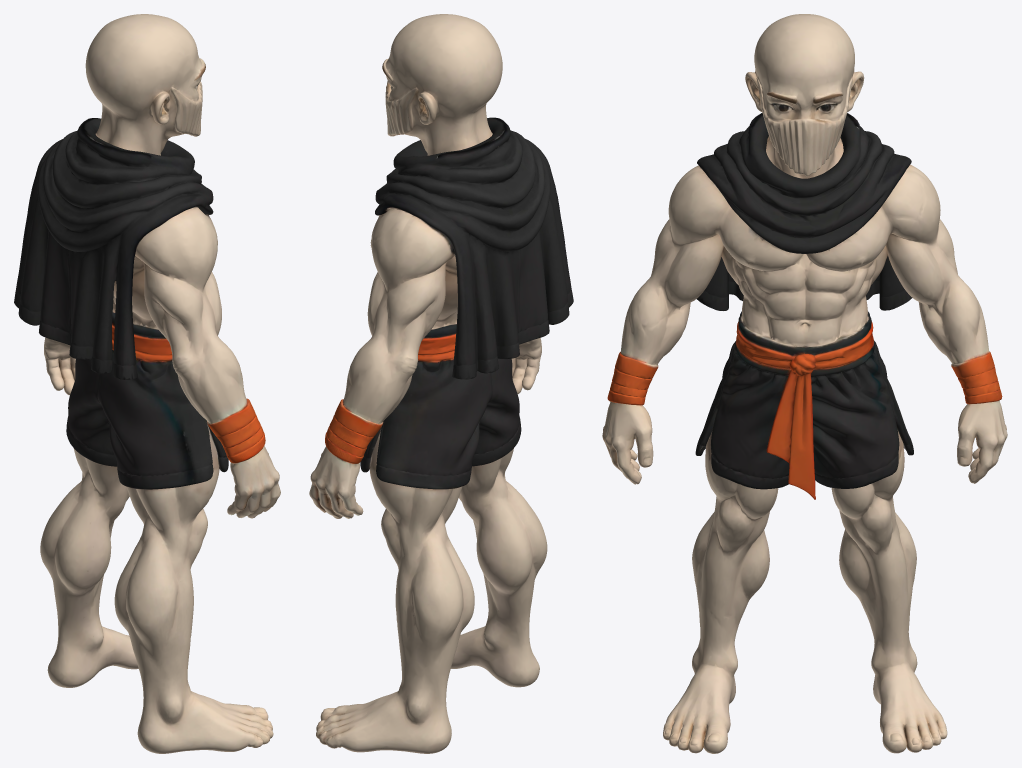
File: talos.glb
3 renders of one model, left to right at view 1: azimuth 30°, elevation 25°; view 2: azimuth 150°, elevation 25°; view 3: azimuth 270°, elevation 25°, orthographic.
Visible parts, largest first — view 1: tripo_node_6e8df936-872f-493b-9cae-0128b2c23baa; view 2: tripo_node_6e8df936-872f-493b-9cae-0128b2c23baa; view 3: tripo_node_6e8df936-872f-493b-9cae-0128b2c23baa.
Boxes of the visible parts, x1,y1,x2,y2 form: tripo_node_6e8df936-872f-493b-9cae-0128b2c23baa: (14, 14, 280, 753); tripo_node_6e8df936-872f-493b-9cae-0128b2c23baa: (309, 14, 573, 753); tripo_node_6e8df936-872f-493b-9cae-0128b2c23baa: (602, 14, 1007, 753).
Size of the model in its own units: 0.2468 by 0.9794 by 0.5156.
1 material, 1 textured.
